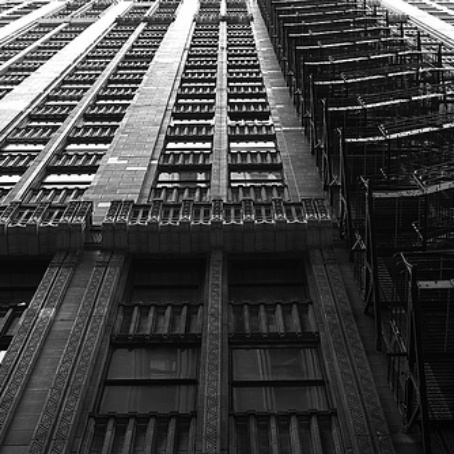building: (1, 1, 454, 454)
